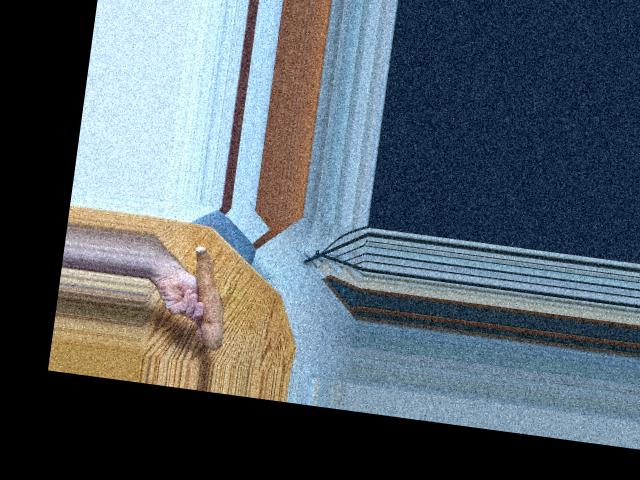sweet_potato: (182, 242, 241, 348)
